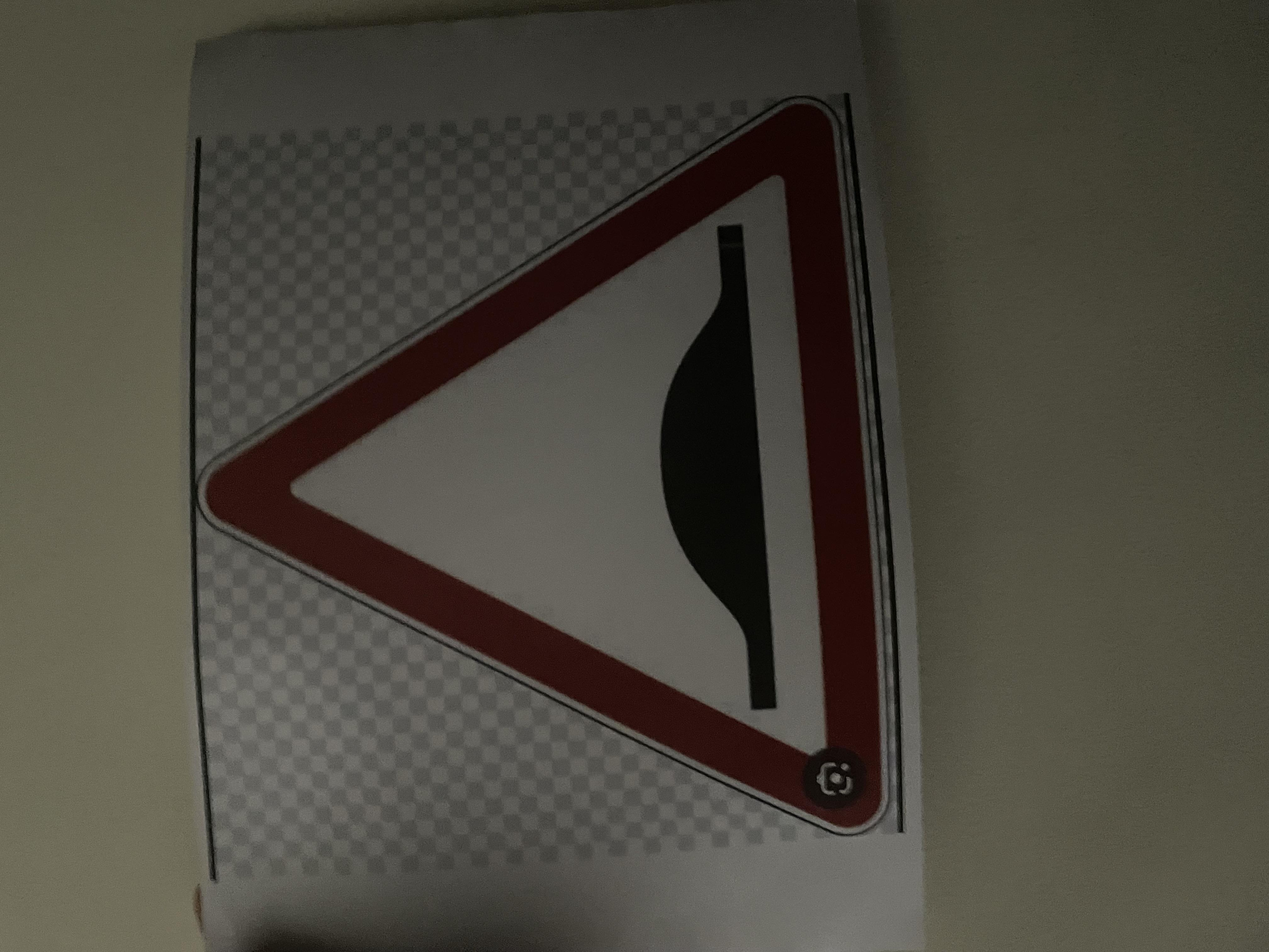Hump: (143, 149, 1167, 677)
